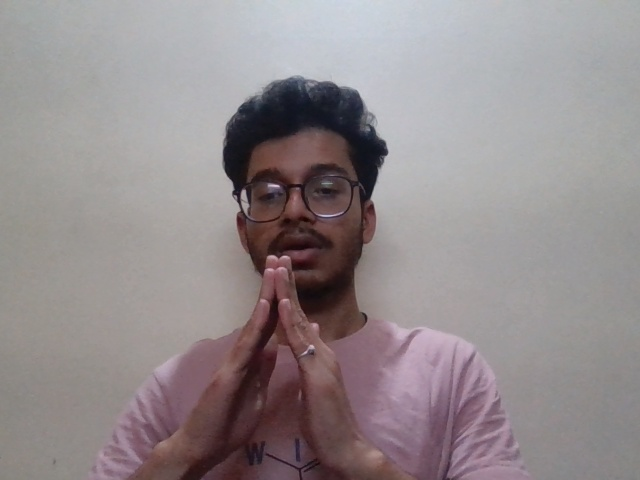home: (174, 250, 378, 471)
